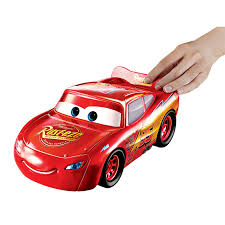mcqueen: (13, 65, 181, 192)
